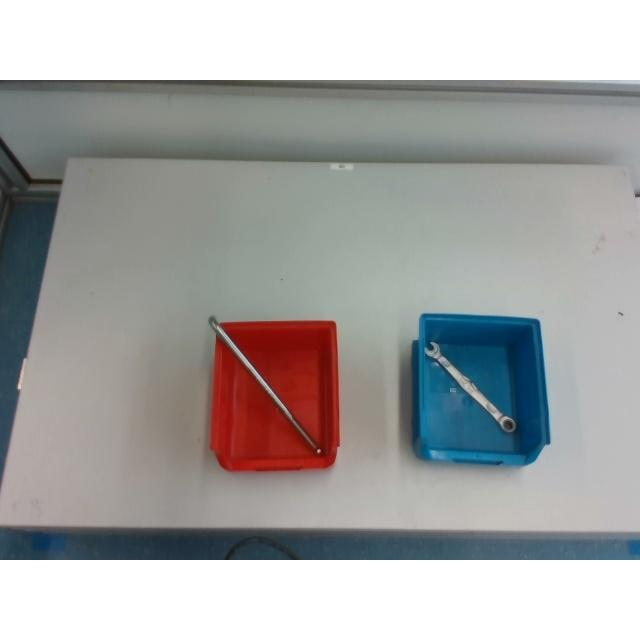AllenKey: (208, 314, 324, 454)
Wrench: (424, 342, 516, 433)
container_box_blue: (412, 314, 548, 466)
container_box_red: (210, 320, 342, 472)
